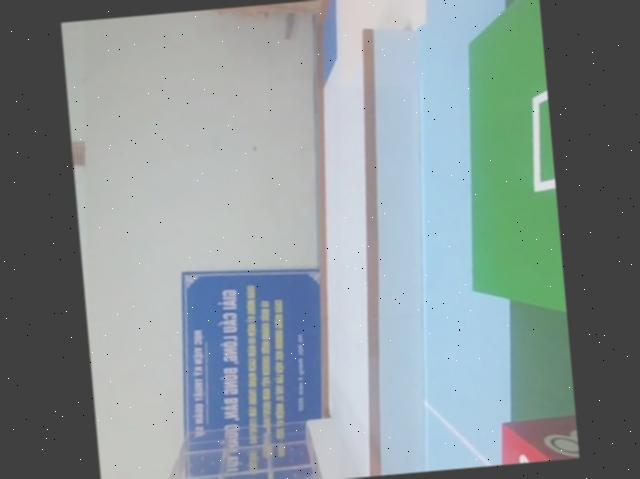R2 Real: (486, 405, 579, 465)
